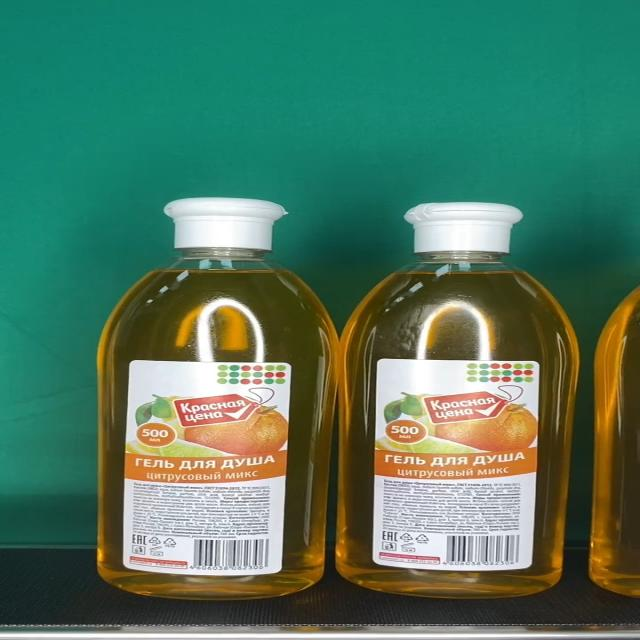Bottle: (97, 198, 341, 600), (336, 201, 581, 600)
Cap: (403, 202, 523, 253), (165, 198, 286, 248)
